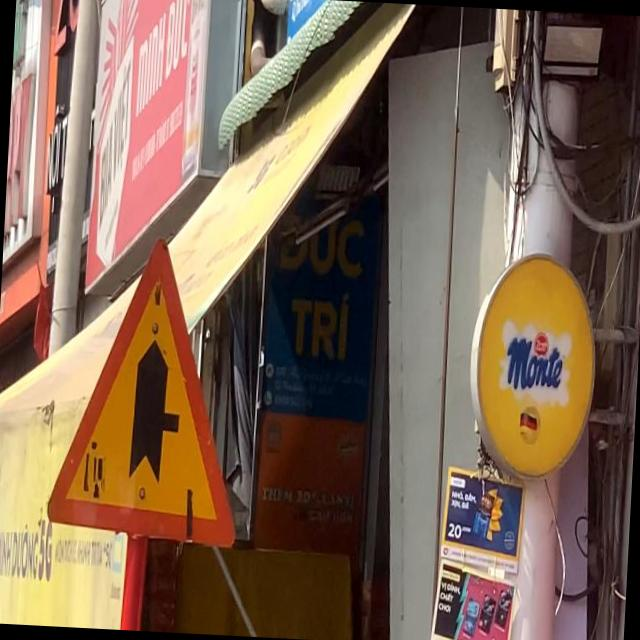W-207b: (46, 233, 250, 545)
